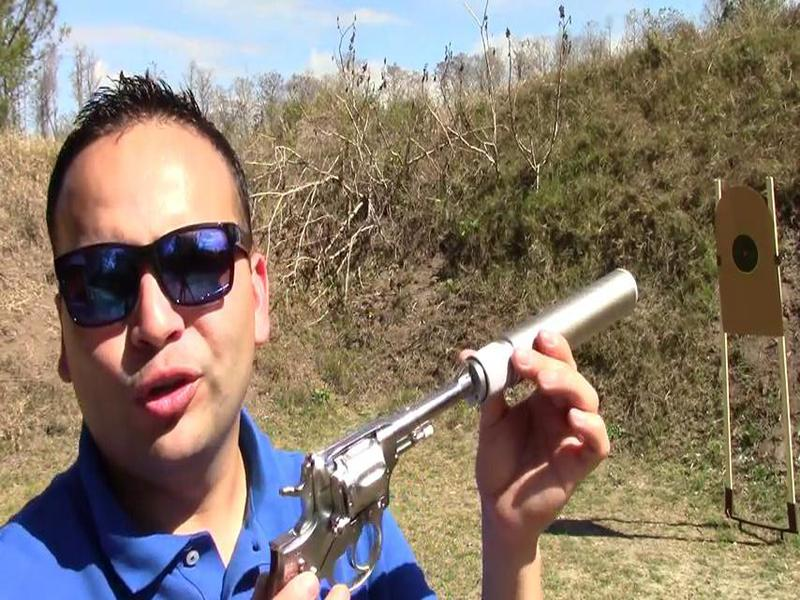Revolver: (222, 353, 474, 600)
